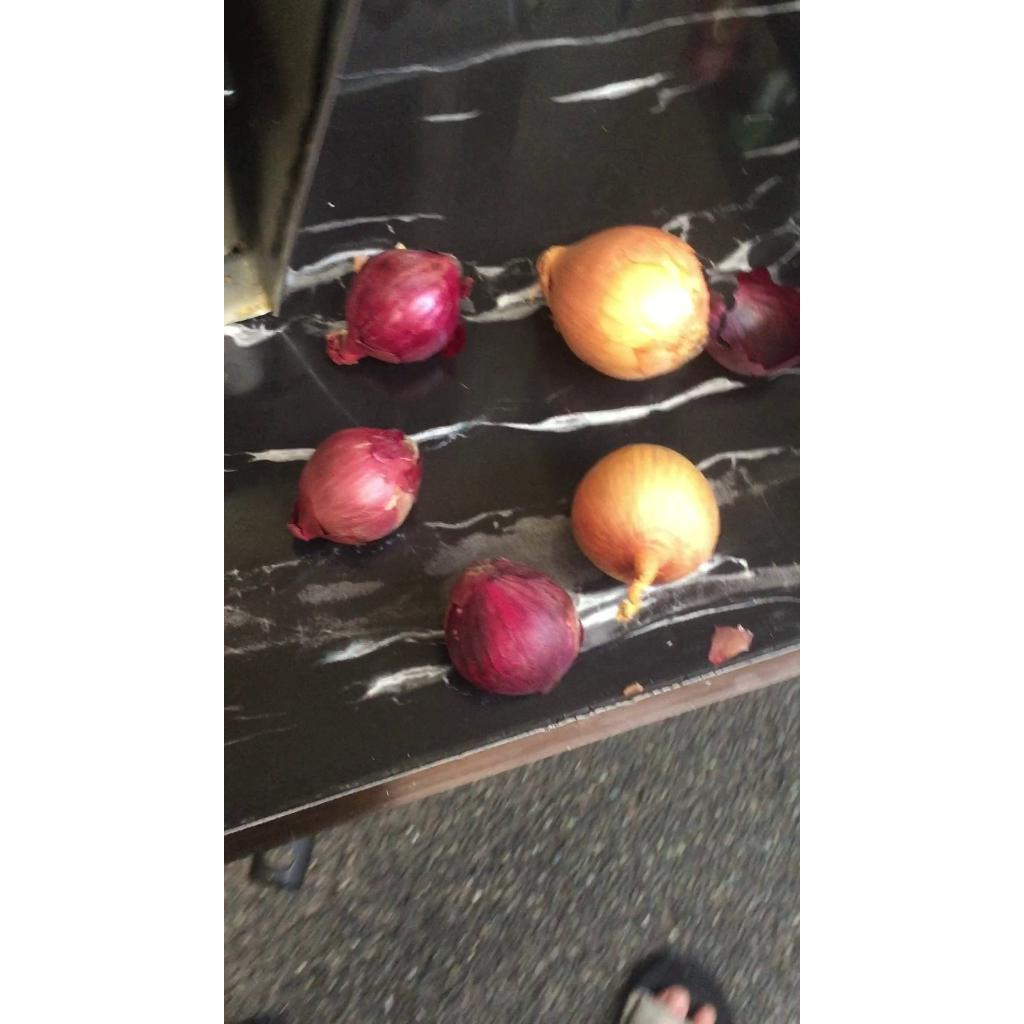Onion: (537, 225, 710, 379), (571, 444, 719, 622), (443, 558, 582, 696), (325, 247, 471, 364), (286, 428, 421, 545)
